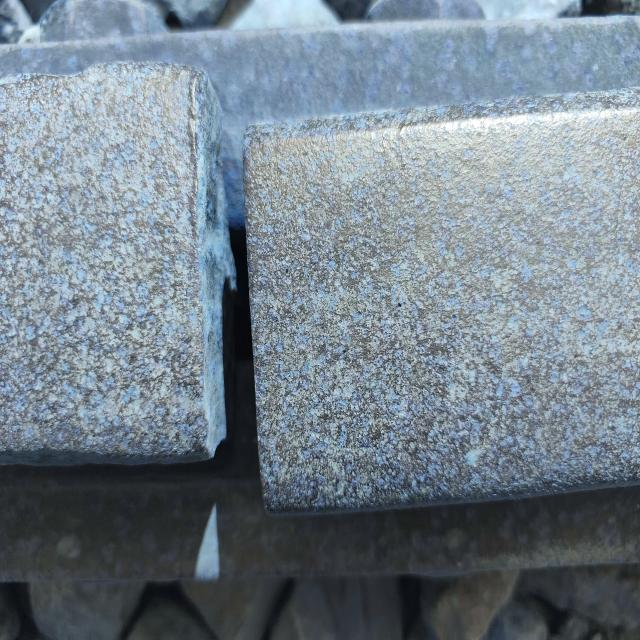railway_join_bar_defects_low: (180, 66, 292, 514)
